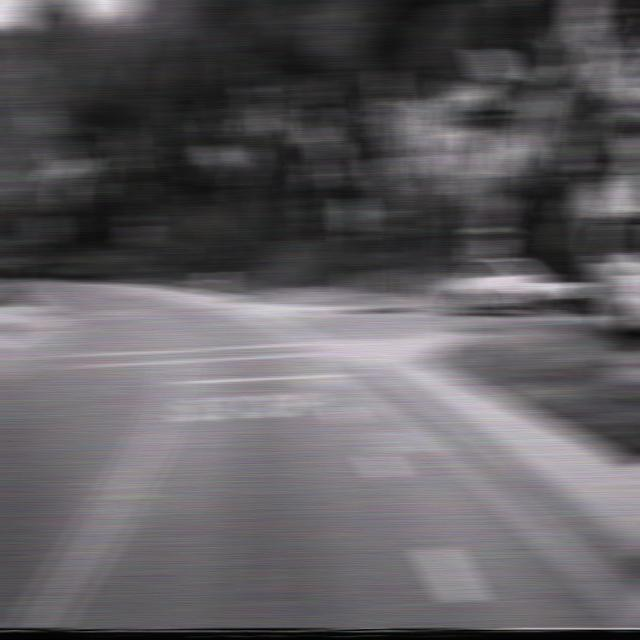stop_sign: (437, 131, 482, 194), (341, 196, 367, 234)
